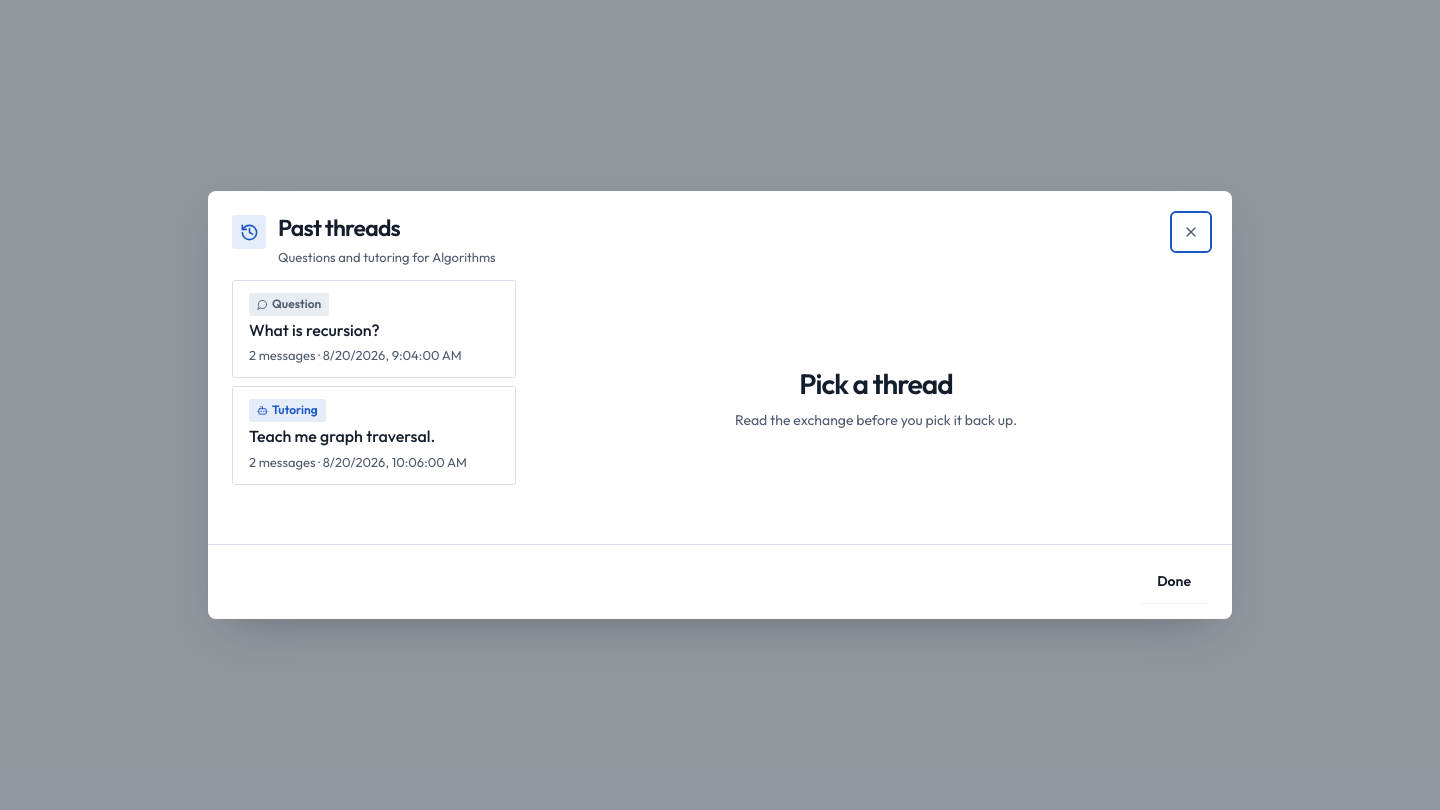
sources in a past thread › names the source instead of leaving a raw marker in the text
Click the button with aria-label "Tutoring 18": [374, 436] box x1=232 y1=386 x2=516 y2=485
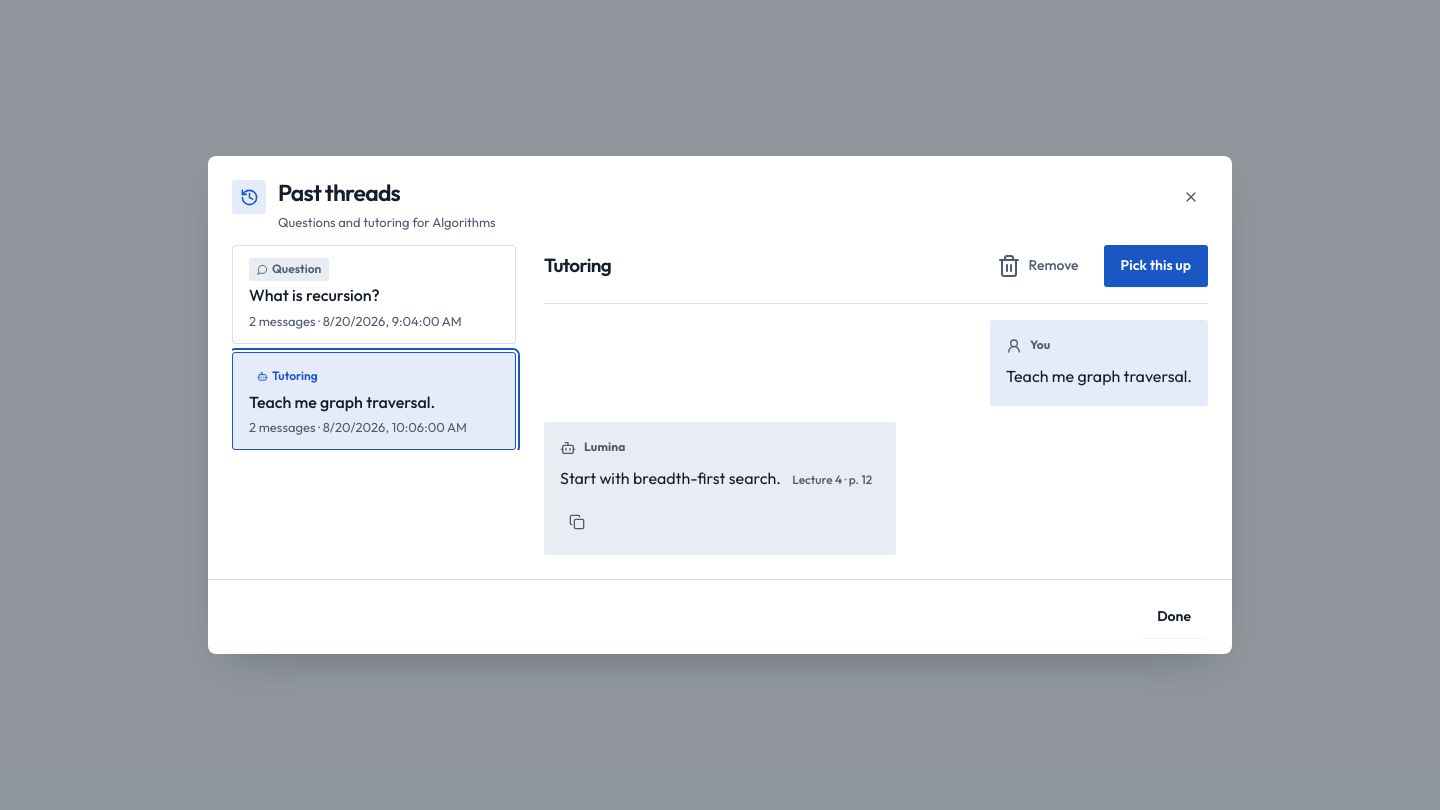
Check: the text "Lecture 4 · p. 12" is shown, box x1=784 y1=469 x2=880 y2=492
